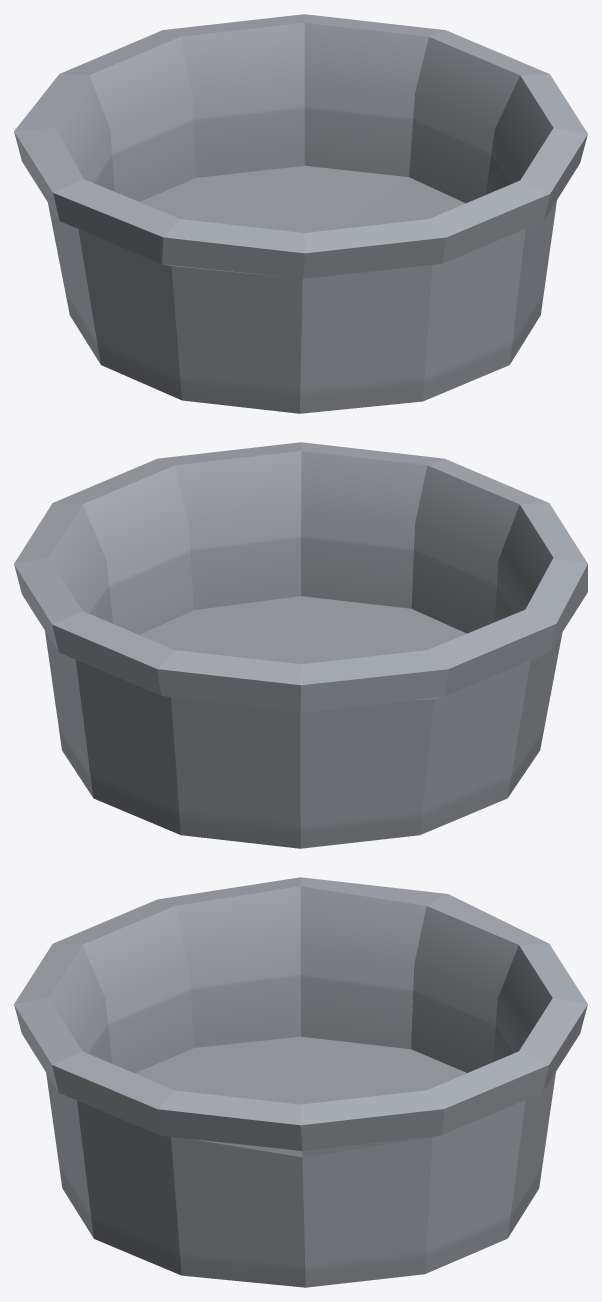
File: SM_Prop_Pot_Large_03.fbx
The picture shows the model from 3 angles, top to bottom: view 1: azimuth 30°, elevation 25°; view 2: azimuth 150°, elevation 25°; view 3: azimuth 270°, elevation 25°; orthographic projection.
Parts seen in each view (by area): view 1: SM_Prop_Pot_Large_03; view 2: SM_Prop_Pot_Large_03; view 3: SM_Prop_Pot_Large_03.
Boxes of the visible parts, x1=… form: SM_Prop_Pot_Large_03: x1=14, y1=14, x2=587, y2=413; SM_Prop_Pot_Large_03: x1=14, y1=442, x2=587, y2=848; SM_Prop_Pot_Large_03: x1=14, y1=877, x2=587, y2=1287.
Size of the model in its own units: 134 by 49.13 by 133.
